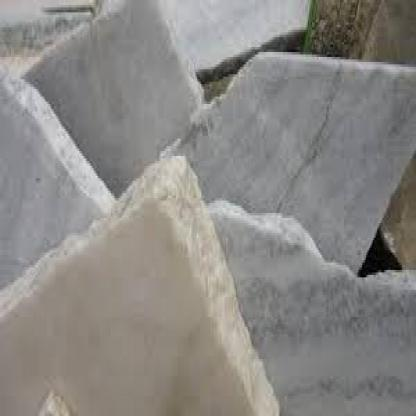Metamorphic_Marble: (0, 141, 287, 414), (172, 37, 415, 275)
